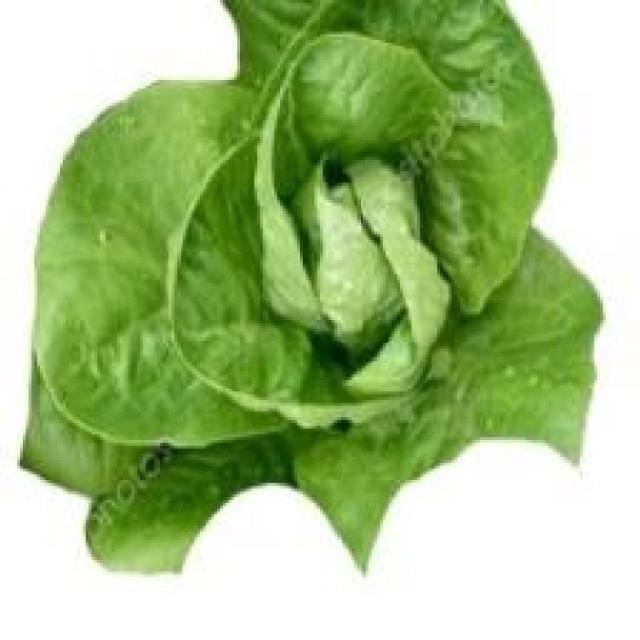Lettuce: (21, 0, 611, 577)
